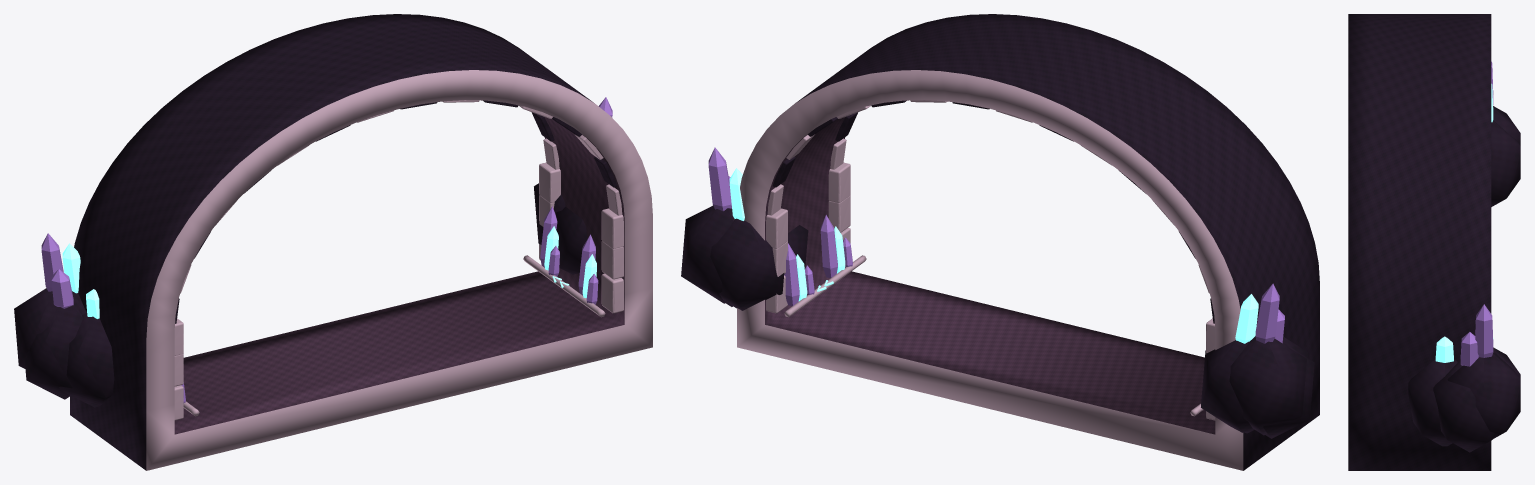
The model's file is portal_exit.glb.
3 views of the same model, side by side, from view 1: azimuth 30°, elevation 25°; view 2: azimuth 150°, elevation 25°; view 3: azimuth 270°, elevation 25° (orthographic). The views are drawn at different scales.
Parts seen in each view (by area): view 1: TunnelGeometry; view 2: TunnelGeometry; view 3: TunnelGeometry.
Boxes of the visible parts, x1,y1,x2,y2 form: TunnelGeometry: (14, 14, 652, 470); TunnelGeometry: (681, 14, 1319, 470); TunnelGeometry: (1348, 14, 1520, 470).
Bounding box in the file's own units: 18.63 × 9.52 × 4.82.
Materials: 5 (2 with a texture image).
